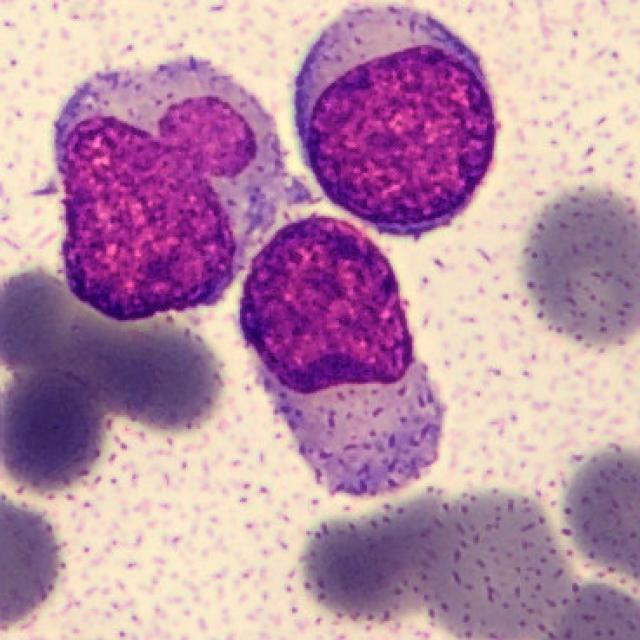Mieloblasto: (54, 57, 283, 322), (240, 216, 438, 496), (292, 5, 499, 240)
